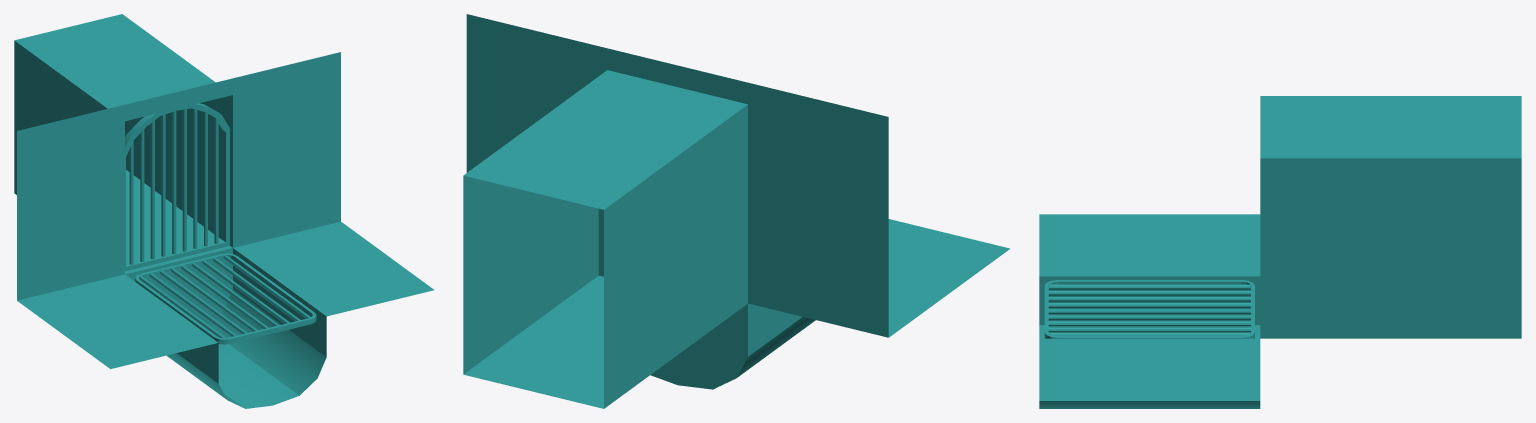
File: SM_Pipes_SewersArenaEnd.fbx
3 views of the same model, side by side, from view 1: azimuth 30°, elevation 25°; view 2: azimuth 150°, elevation 25°; view 3: azimuth 270°, elevation 25° (orthographic). The views are drawn at different scales.
Visible parts, largest first — view 1: SM_Pipes_SewersArenaEnd; view 2: SM_Pipes_SewersArenaEnd; view 3: SM_Pipes_SewersArenaEnd.
Boxes of the visible parts, left/top/right/bottom form: SM_Pipes_SewersArenaEnd: left=14, top=14, right=434, bottom=408; SM_Pipes_SewersArenaEnd: left=463, top=14, right=1009, bottom=408; SM_Pipes_SewersArenaEnd: left=1039, top=96, right=1521, bottom=408.
Bounding box in the file's own units: 1000 × 724 × 1091.
